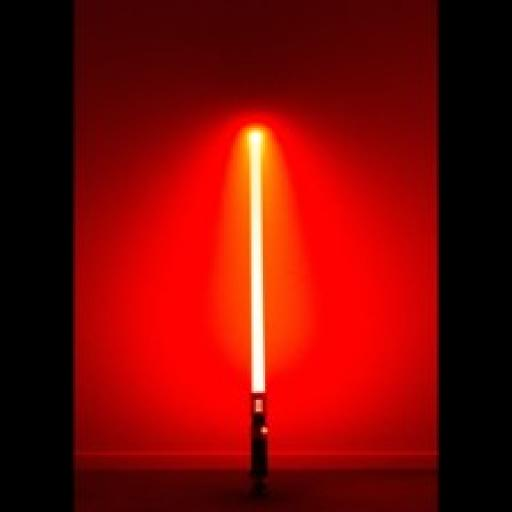lightsaber: (248, 131, 270, 480)
